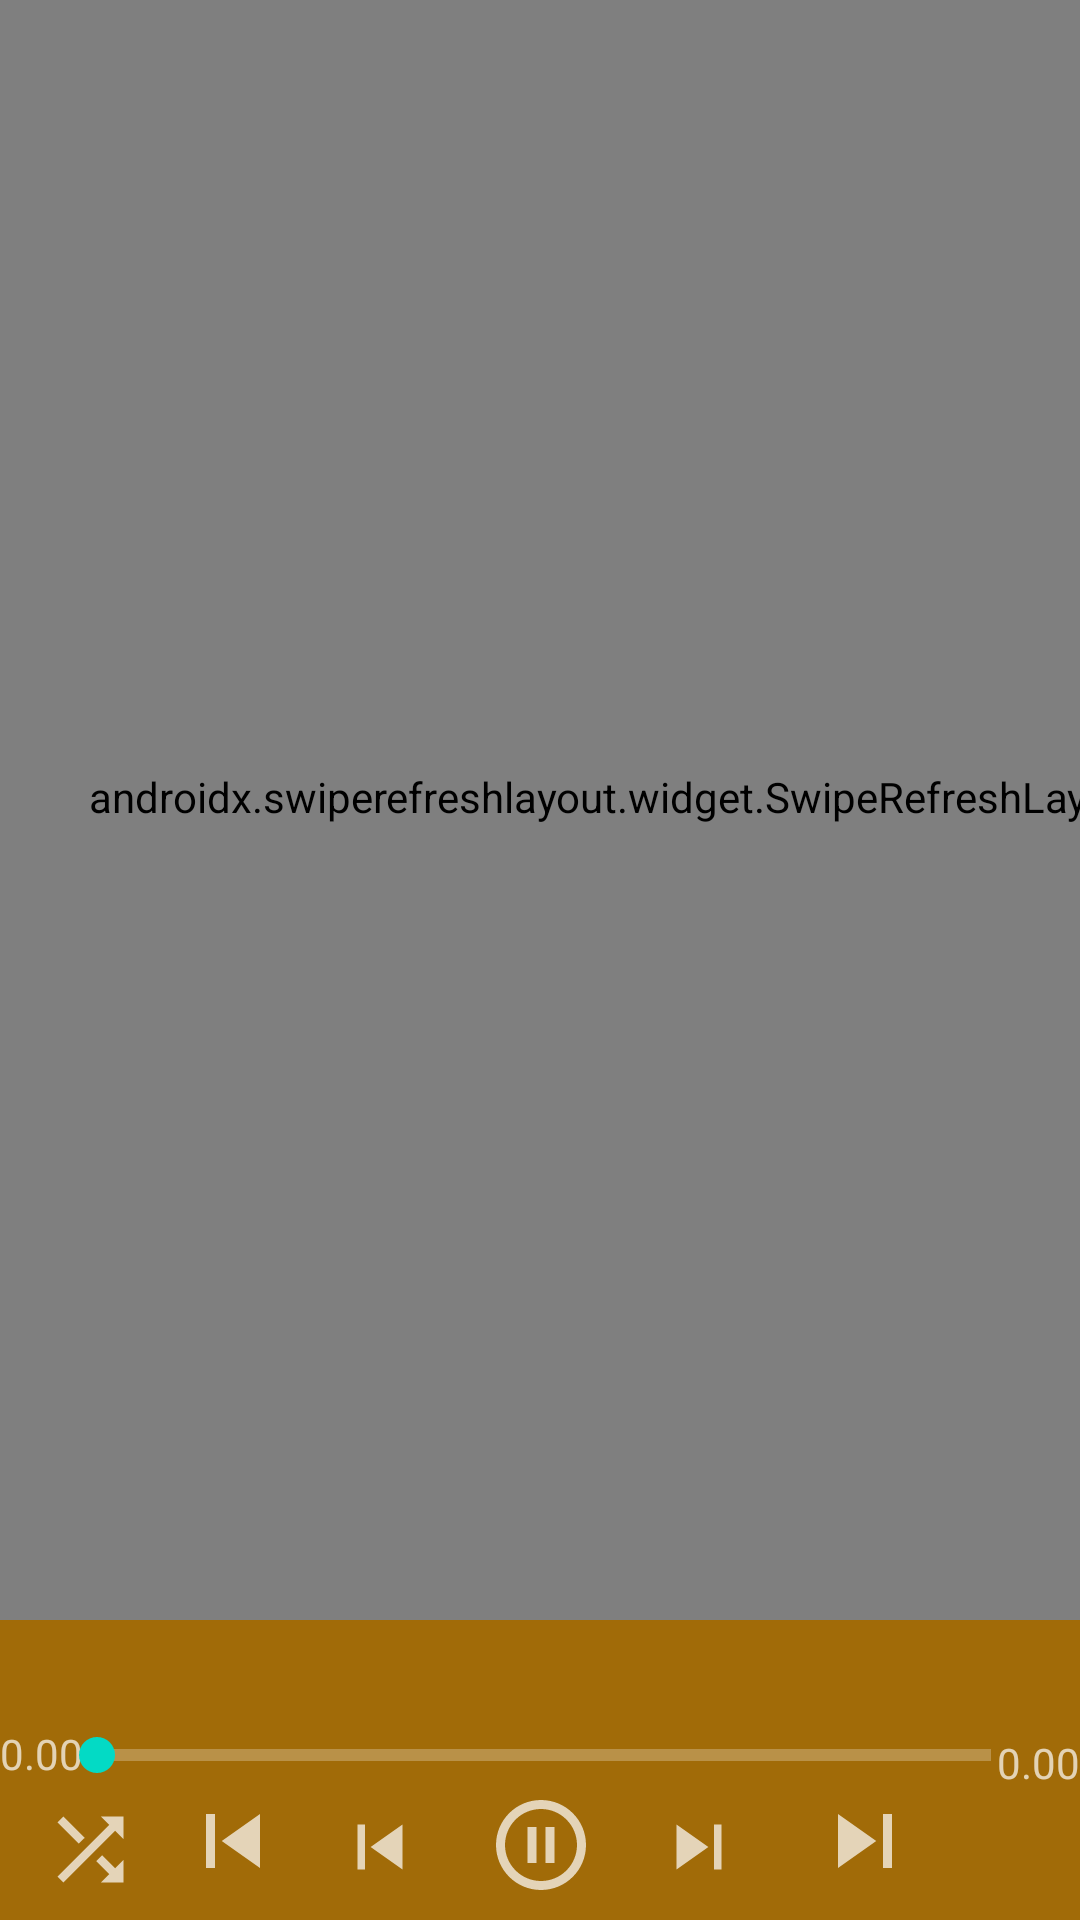

Icon click points for this 1080 × 1920 phone screenshot, format (x=x, y=y):
next: (x=865, y=1841), (x=699, y=1847)
pause: (x=541, y=1845)
previous: (x=233, y=1841), (x=380, y=1847)
shuffle: (x=90, y=1849)
